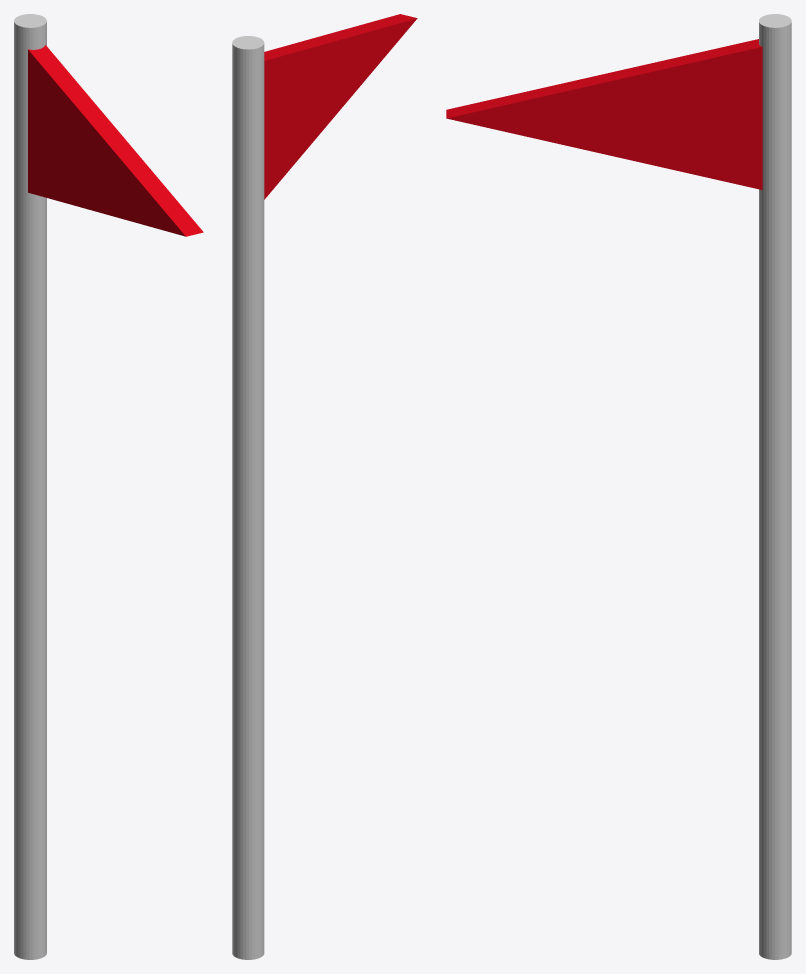
Rendered from Flag.fbx.
The picture shows the model from 3 angles, left to right: view 1: azimuth 30°, elevation 25°; view 2: azimuth 150°, elevation 25°; view 3: azimuth 270°, elevation 25°; orthographic projection. The views are drawn at different scales.
Visible parts, largest first — view 1: Cylinder; view 2: Cylinder; view 3: Cylinder.
Boxes of the visible parts, x1,y1,x2,y2 form: Cylinder: (14, 14, 203, 959); Cylinder: (232, 14, 417, 959); Cylinder: (446, 14, 791, 959).
Bounding box in the file's own units: 84 × 8 × 250.
